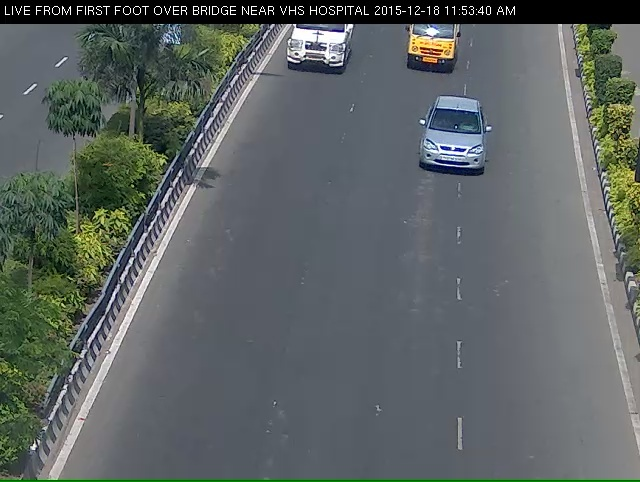Auto: (396, 19, 471, 81)
Car: (410, 92, 492, 198), (277, 19, 355, 92)
